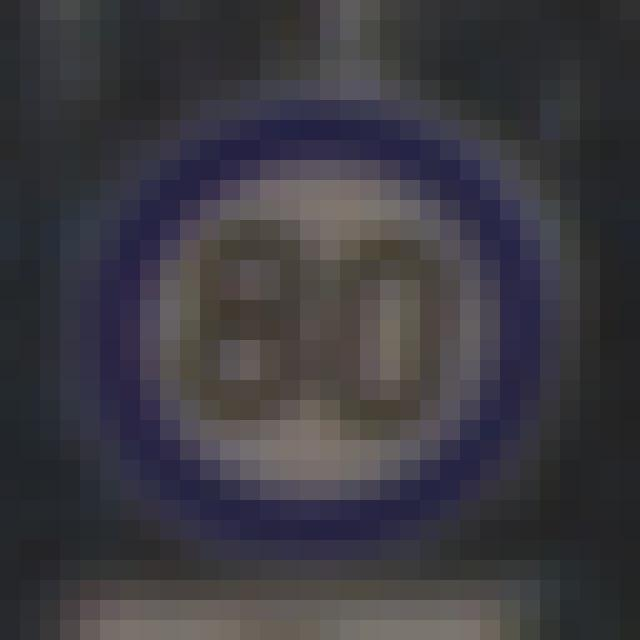SPEED-LIMIT-80: (90, 109, 536, 532)
